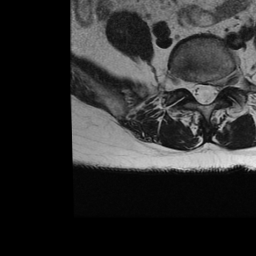CCS_normal: (199, 78, 209, 109)
LFS_normal: (217, 72, 227, 94)
LLS_normal: (210, 77, 216, 106)
RFS_normal: (179, 72, 190, 95)
RLS_normal: (190, 75, 199, 105)
